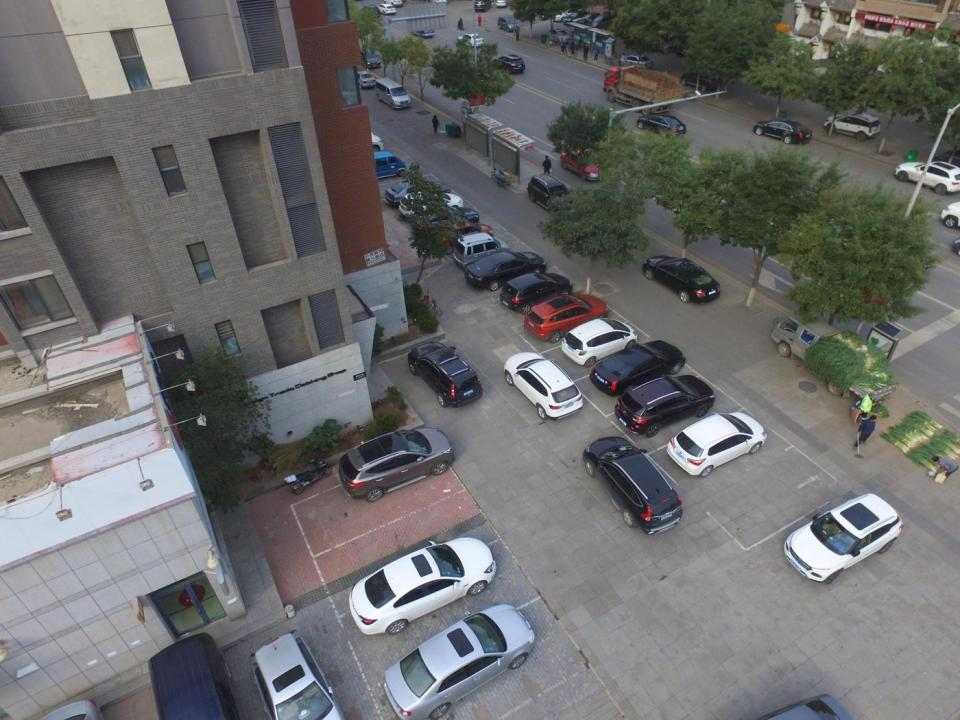car: (384, 603, 534, 718), (348, 538, 494, 636), (784, 493, 902, 583), (582, 439, 684, 534), (247, 633, 349, 720), (338, 426, 453, 502), (667, 412, 767, 478), (614, 374, 714, 437), (504, 352, 584, 420), (590, 340, 687, 394), (407, 342, 482, 407), (525, 293, 608, 341), (643, 254, 720, 304), (562, 319, 636, 365), (464, 250, 547, 290), (417, 216, 491, 258), (499, 273, 574, 312), (412, 203, 478, 243), (892, 161, 960, 196), (560, 142, 616, 182), (399, 190, 463, 224), (384, 178, 448, 209), (528, 173, 573, 216), (454, 234, 509, 266), (752, 118, 813, 146), (825, 111, 880, 141), (636, 112, 687, 140), (492, 53, 525, 75), (586, 12, 622, 31), (573, 11, 604, 28), (351, 70, 377, 90), (358, 49, 384, 69), (548, 7, 580, 22), (457, 31, 485, 48), (562, 10, 591, 26), (547, 27, 569, 46), (497, 14, 520, 31), (410, 22, 435, 37), (376, 3, 397, 16), (360, 4, 380, 17), (473, 0, 492, 12), (386, 0, 404, 7), (496, 0, 508, 8)
truck: (771, 314, 904, 400), (603, 64, 682, 112)
van: (150, 634, 242, 720), (351, 149, 405, 180), (376, 79, 412, 107)
